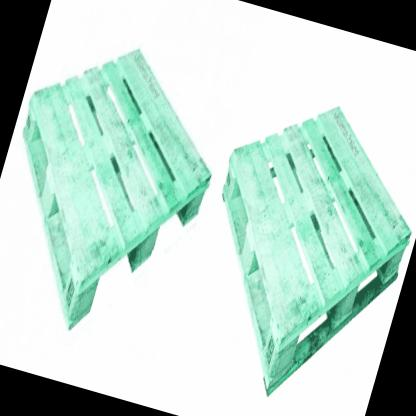BoxFace: (219, 103, 412, 399), (21, 44, 213, 334)
